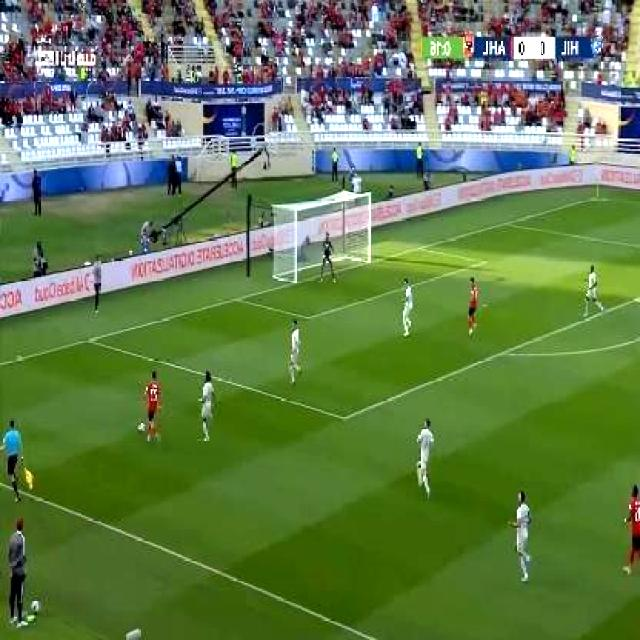bigarea_bottom_inner: (332, 400, 358, 434)
bigarea_bottom_outter: (82, 328, 102, 350)
bigarea_top_outter: (500, 214, 517, 231)
bottom_arc_area_intersection: (494, 339, 517, 366)
corner: (589, 189, 609, 203)
smallarea_bottom_inner: (302, 306, 320, 328)
smallarea_bottom_outter: (229, 288, 249, 309)
smallarea_top_inner: (476, 251, 496, 271)
smallarea_top_outter: (412, 238, 432, 257)
top_arc_area_intersection: (631, 286, 640, 309)
